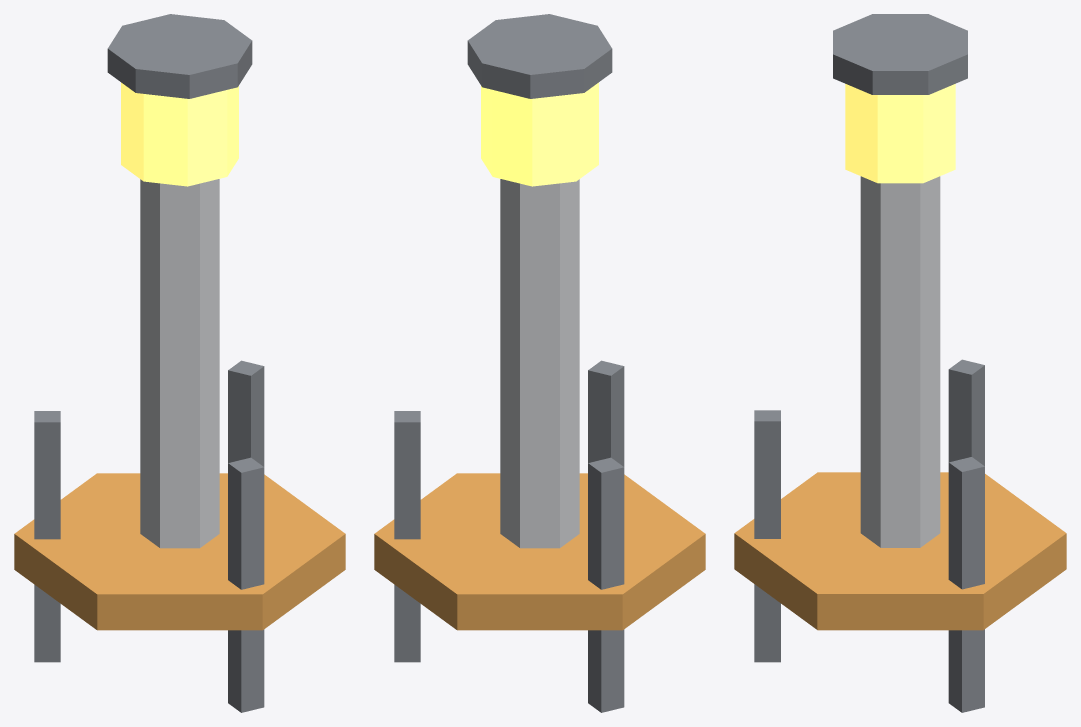
File: beacon.glb
3 views of the same model, side by side, from view 1: azimuth 30°, elevation 25°; view 2: azimuth 150°, elevation 25°; view 3: azimuth 270°, elevation 25° (orthographic).
Visible parts, largest first — view 1: base, light; view 2: base, light; view 3: base, light.
Boxes of the visible parts, x1,y1,x2,y2 form: base: (14, 179, 345, 712); light: (107, 14, 252, 186); base: (374, 179, 705, 712); light: (467, 14, 612, 186); base: (734, 176, 1066, 712); light: (833, 14, 967, 183).
Size of the model in its own units: 0.866 by 2.04 by 1.
